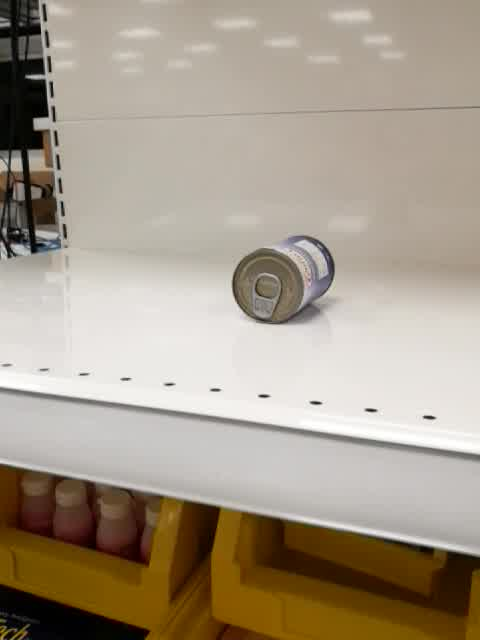sardine: (231, 233, 337, 325)
